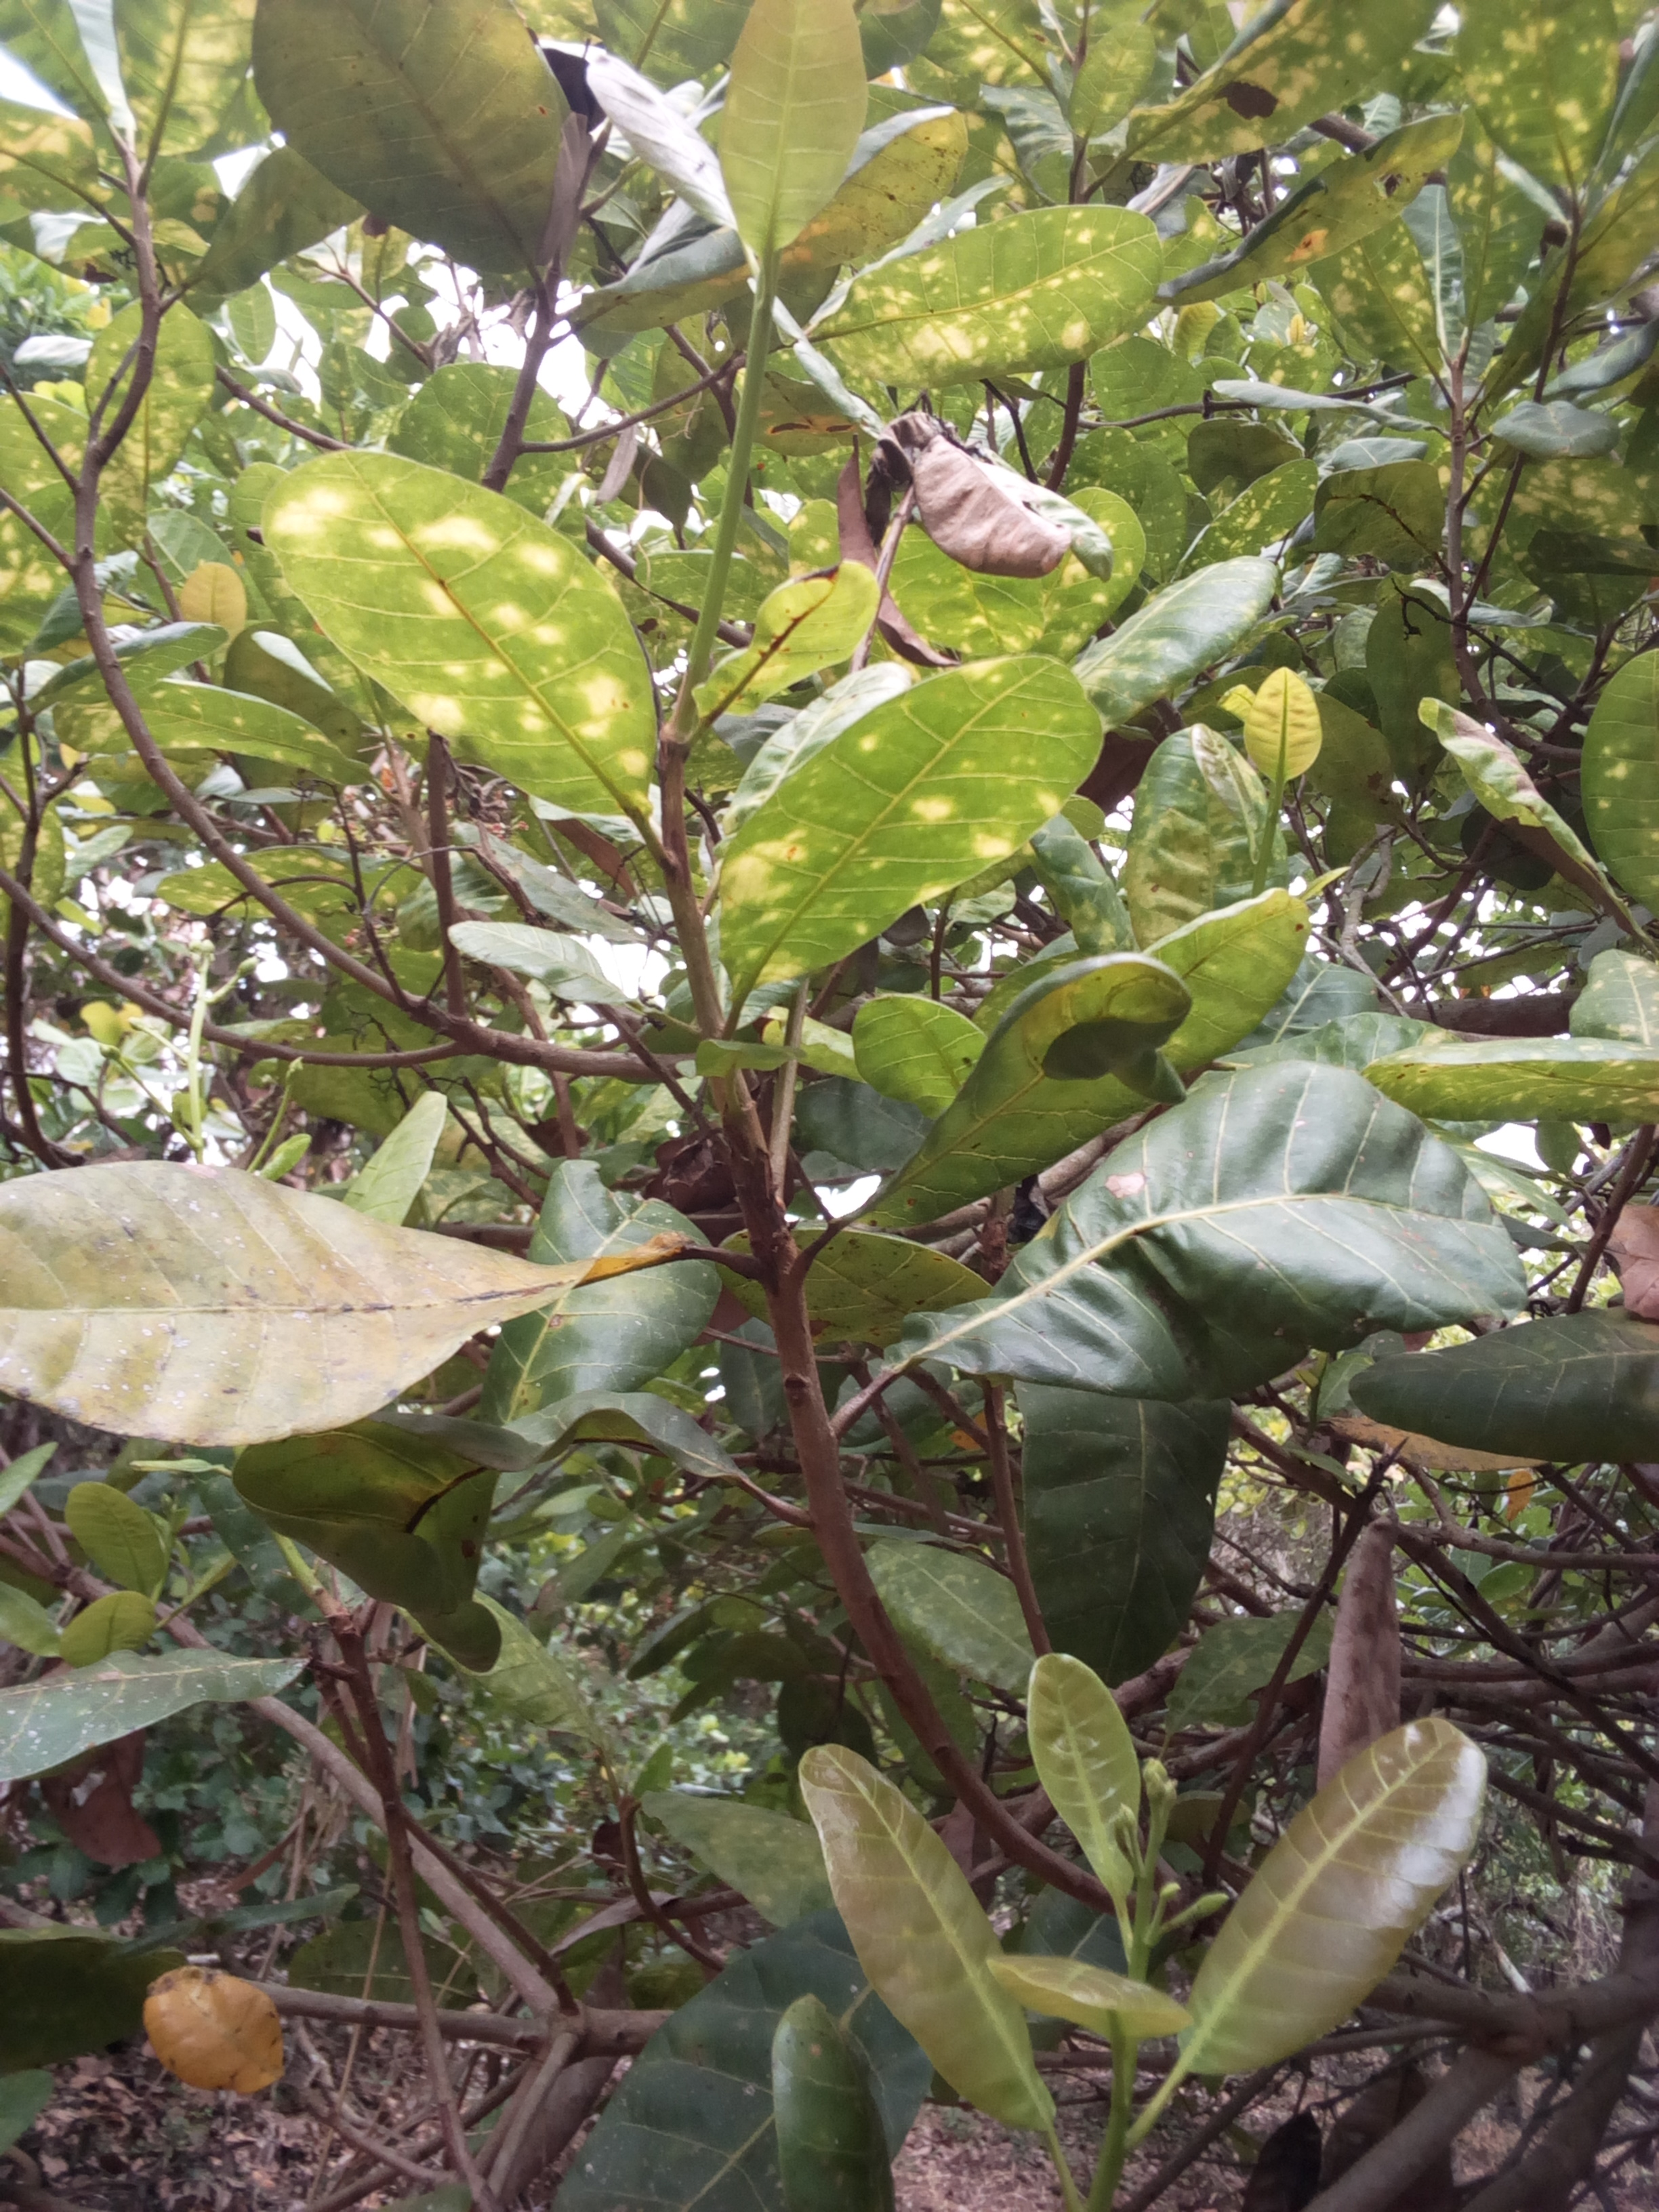Anthracnose: (9, 1153, 593, 1451)
